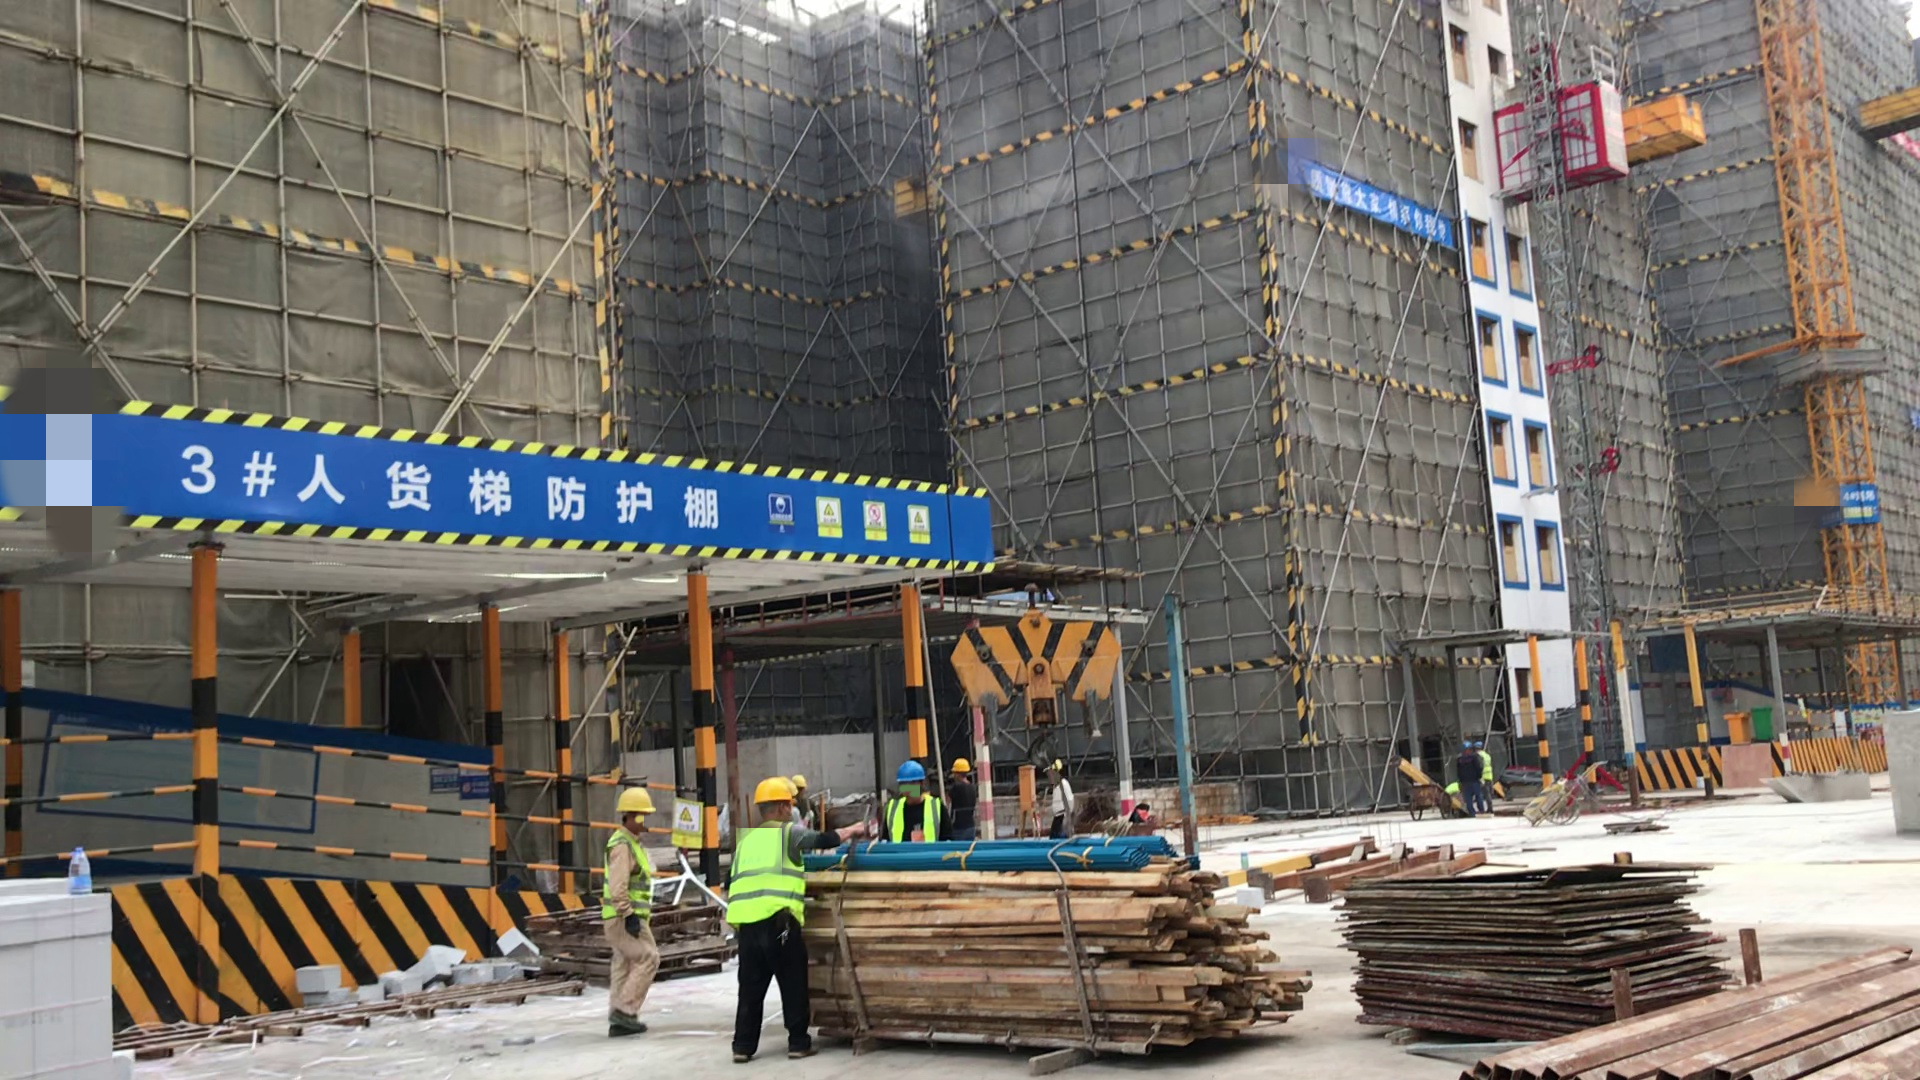board: (1351, 872, 1732, 1030)
brick: (1, 904, 108, 1069)
ebox: (1016, 772, 1035, 831), (1724, 715, 1751, 745)
handcart: (1523, 787, 1582, 823), (1412, 784, 1448, 818)
helmet: (616, 787, 657, 812), (755, 780, 793, 803), (897, 763, 926, 782), (951, 758, 970, 772), (793, 776, 808, 789), (1461, 741, 1472, 750)
hook: (950, 591, 1123, 769)
hopper: (1763, 774, 1874, 803)
person: (731, 783, 823, 1056), (602, 789, 659, 1041), (878, 766, 944, 846), (952, 759, 974, 841), (1474, 737, 1496, 816), (1458, 741, 1479, 816), (1052, 758, 1071, 842)
scaffold: (1475, 954, 1914, 1080)
slogan: (1297, 164, 1455, 250), (761, 484, 938, 550), (670, 801, 709, 851)
vest: (727, 827, 806, 923), (604, 834, 651, 924), (886, 796, 941, 844), (1476, 751, 1494, 783)
wood: (808, 864, 1302, 1042)
